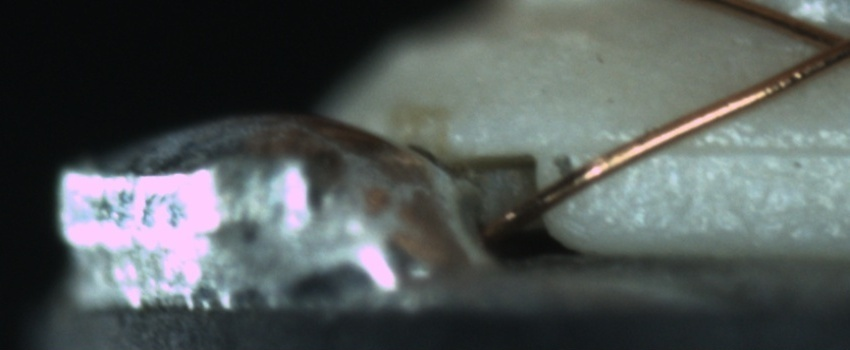CL: (800, 13, 850, 75)
DL: (631, 114, 850, 183)
